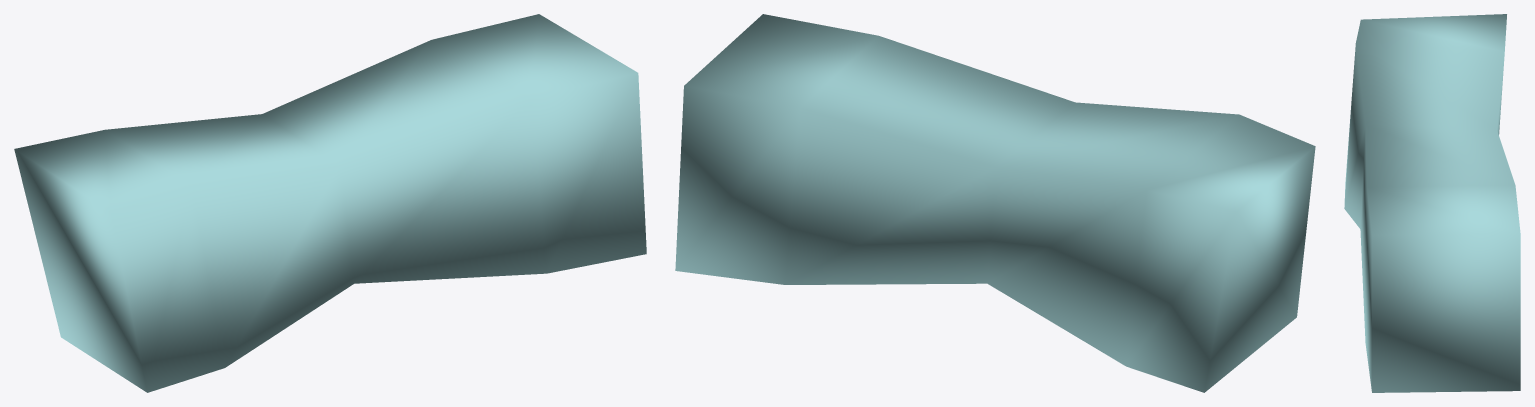
File: Skelly_f_index.02.R.fbx
3 views of the same model, side by side, from view 1: azimuth 30°, elevation 25°; view 2: azimuth 150°, elevation 25°; view 3: azimuth 270°, elevation 25° (orthographic). The views are drawn at different scales.
Parts seen in each view (by area): view 1: Skelly_f_index.02.R; view 2: Skelly_f_index.02.R; view 3: Skelly_f_index.02.R.
Boxes of the visible parts, x1,y1,x2,y2 form: Skelly_f_index.02.R: [14, 14, 646, 392]; Skelly_f_index.02.R: [675, 14, 1315, 392]; Skelly_f_index.02.R: [1344, 14, 1520, 392].
Size of the model in its own units: 3.54 by 1.23 by 1.16.
